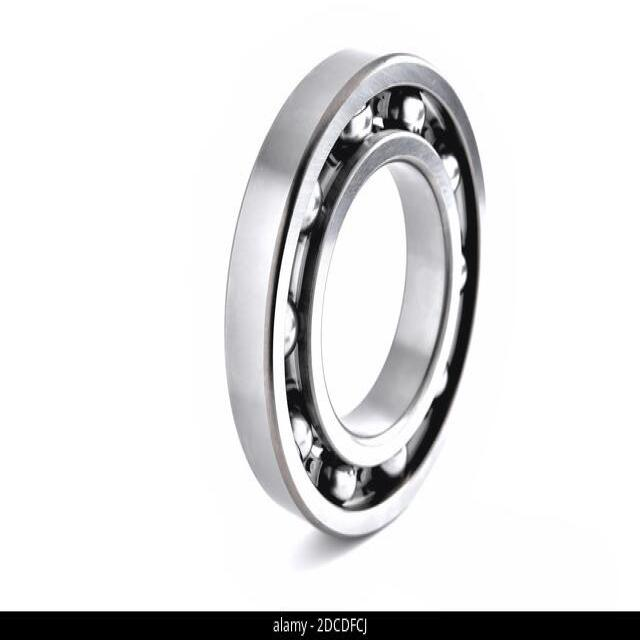Bearing: (222, 41, 490, 546)
